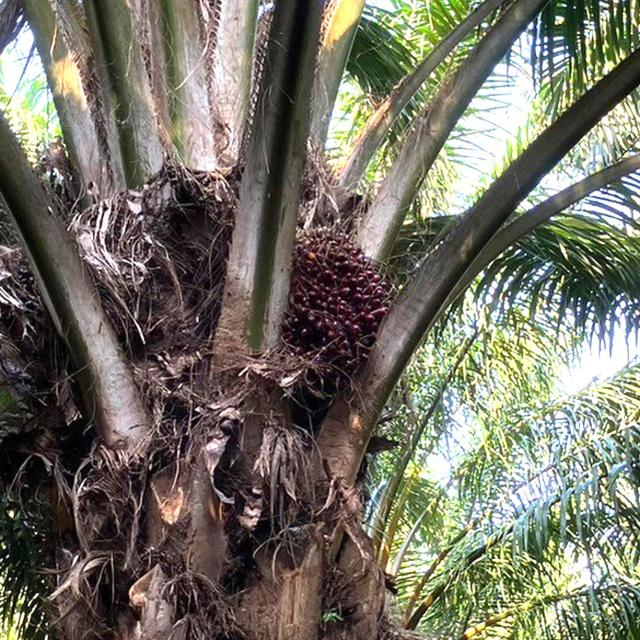ripe: (278, 217, 398, 381)
